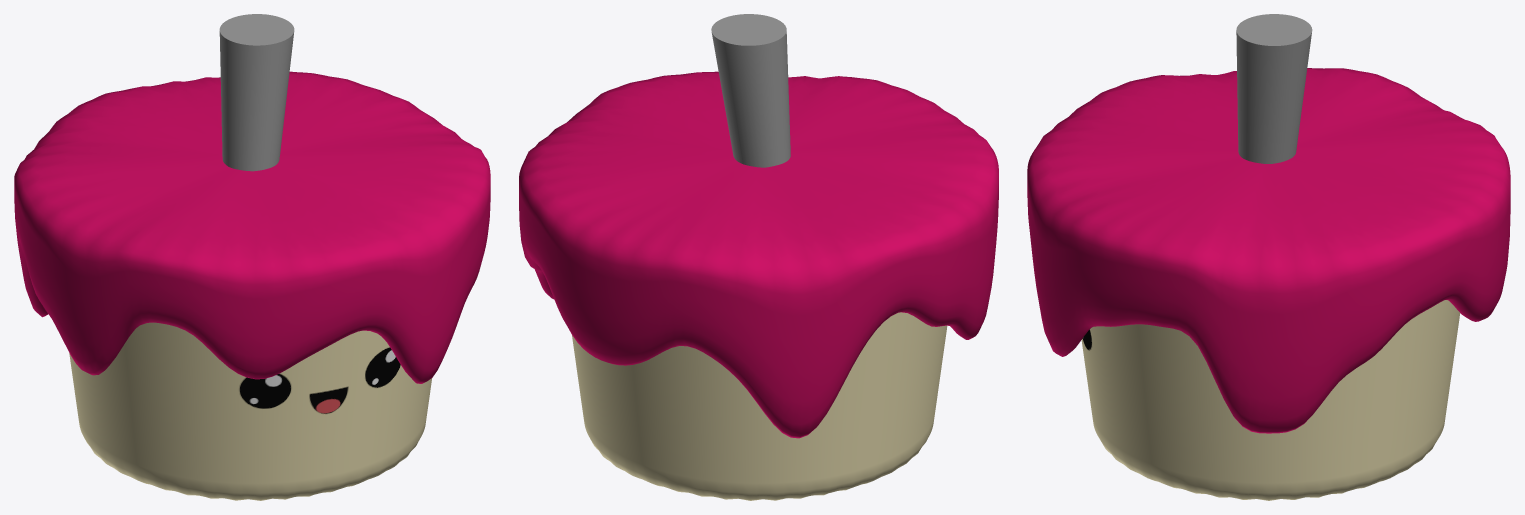
File: cakes.FBX
3 renders of one model, left to right at view 1: azimuth 30°, elevation 25°; view 2: azimuth 150°, elevation 25°; view 3: azimuth 270°, elevation 25°, orthographic.
Visible parts, largest first — view 1: Cylinder003, Cylinder004, Cylinder005; view 2: Cylinder003, Cylinder004, Cylinder005; view 3: Cylinder003, Cylinder004, Cylinder005.
Boxes of the visible parts, <box> form: Cylinder003: <box>14,71,490,383</box>; Cylinder004: <box>69,322,431,500</box>; Cylinder005: <box>219,14,294,171</box>; Cylinder003: <box>519,71,998,438</box>; Cylinder004: <box>572,312,947,500</box>; Cylinder005: <box>711,14,790,167</box>; Cylinder003: <box>1027,68,1510,433</box>; Cylinder004: <box>1081,300,1460,500</box>; Cylinder005: <box>1236,14,1312,163</box>.
Bounding box in the file's own units: 79.69 × 75.86 × 79.69.
Materials: 3 (1 with a texture image).
